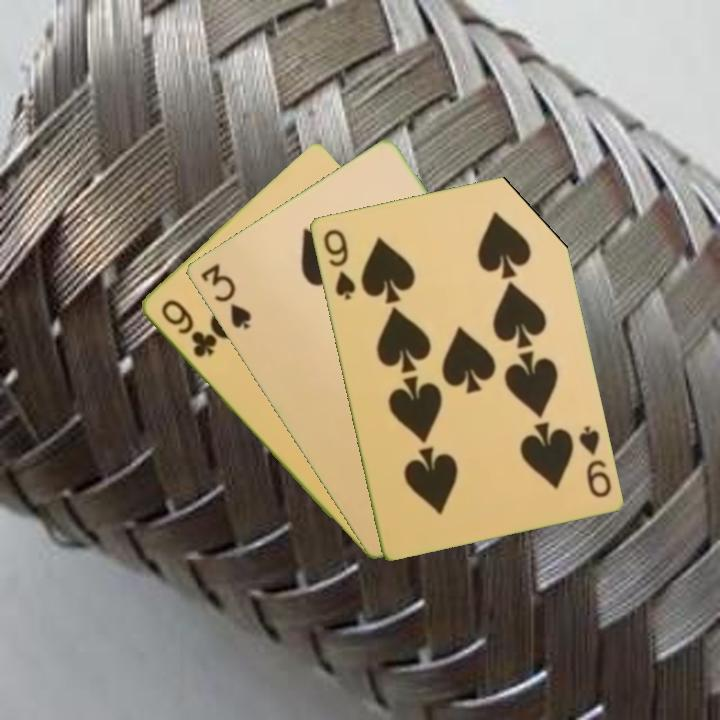3s: (196, 259, 254, 332)
9c: (156, 296, 218, 360)
9s: (574, 422, 614, 500), (319, 225, 358, 303)
